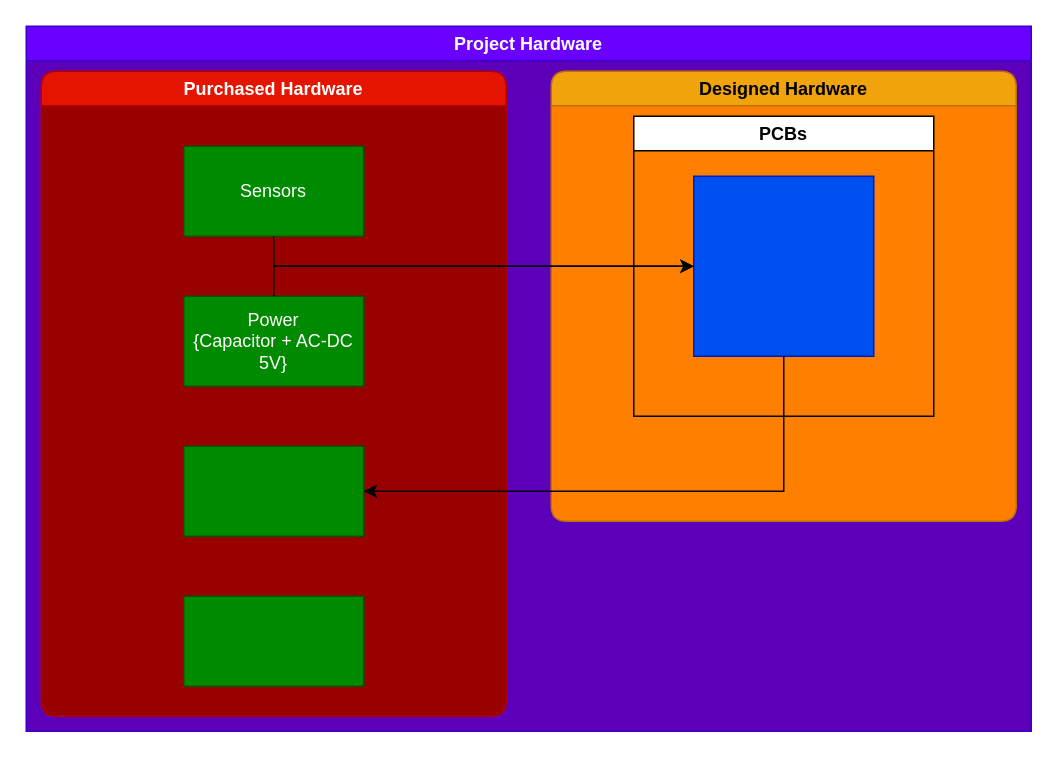
This 1058x758 diagram has some shape labels left out. The shapes that lost their labels are listed below. From the top down, each one's centre as x and y in pixels, then its label:
At (783,265): "AC-DC, Solenoid Controllers, and Photoelectric mountings".
At (273,490): "Processing {Arduino Mega R3 and Adafruit 881}".
At (273,640): "Framing {Wood and Barrel}".
